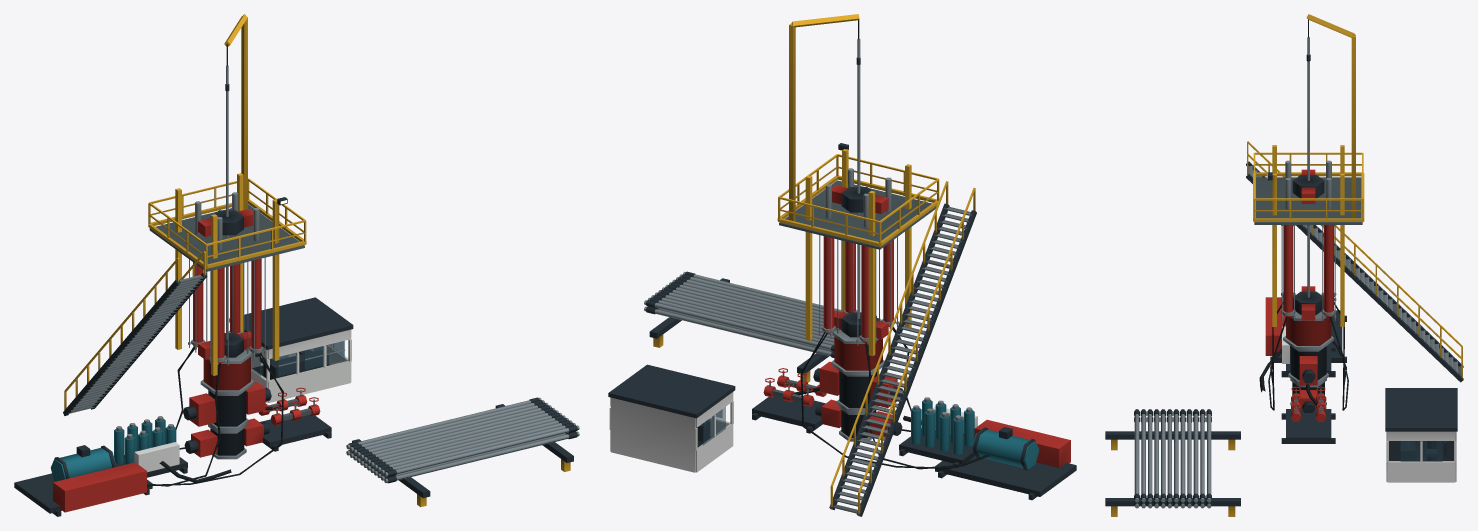
File: snubbing_unit_lodl.glb
3 renders of one model, left to right at view 1: azimuth 30°, elevation 25°; view 2: azimuth 150°, elevation 25°; view 3: azimuth 270°, elevation 25°, orthographic. The views are drawn at different scales.
Visible parts, largest first — view 1: pipe_rack_surface_steel, control_cabin_surface_dark, control_cabin_surface_white, snubbing_frame_surface_yellow, handrails_surface_yellow, hydraulic_jacks_surface_red, drill_floor_surface_deck, hydraulic_power_pack_surface_red, stairs_surface_steel, pipe_rack_surface_dark, stairs_surface_dark, accumulator_surface_blue (+18 smaller); view 2: pipe_rack_surface_steel, control_cabin_surface_white, stairs_surface_steel, control_cabin_surface_dark, snubbing_frame_surface_yellow, stairs_surface_dark, handrails_surface_yellow, hydraulic_jacks_surface_red, hydraulic_power_pack_surface_dark, drill_floor_surface_deck, stairs_surface_yellow, accumulator_surface_blue (+19 smaller); view 3: pipe_rack_surface_steel, control_cabin_surface_dark, drill_floor_surface_deck, pipe_rack_surface_dark, control_cabin_surface_white, handrails_surface_yellow, hydraulic_jacks_surface_red, stairs_surface_dark, snubbing_frame_surface_yellow, choke_manifold_surface_dark, stairs_surface_steel, stairs_surface_yellow (+14 smaller).
Boxes of the visible parts, x1,y1,x2,y2 form: pipe_rack_surface_steel: (346,397,579,482); control_cabin_surface_dark: (229,297,353,379); control_cabin_surface_white: (251,329,351,402); snubbing_frame_surface_yellow: (175,173,279,375); handrails_surface_yellow: (148,178,306,268); hydraulic_jacks_surface_red: (193,258,261,362); drill_floor_surface_deck: (149,204,304,271); hydraulic_power_pack_surface_red: (53,462,146,512); stairs_surface_steel: (68,275,205,413); pipe_rack_surface_dark: (348,397,577,498); stairs_surface_dark: (63,273,207,415); accumulator_surface_blue: (114,418,176,464); pipe_rack_surface_steel: (644,271,881,356); control_cabin_surface_white: (609,392,733,472); stairs_surface_steel: (832,207,971,513); control_cabin_surface_dark: (608,364,735,447); snubbing_frame_surface_yellow: (805,149,911,356); stairs_surface_dark: (829,203,976,516); handrails_surface_yellow: (777,154,939,246); hydraulic_jacks_surface_red: (823,236,893,342); hydraulic_power_pack_surface_dark: (935,427,1076,500); drill_floor_surface_deck: (779,180,936,249); stairs_surface_yellow: (830,181,975,515); accumulator_surface_blue: (911,400,974,454); pipe_rack_surface_steel: (1134,409,1211,508); control_cabin_surface_dark: (1385,388,1457,460); drill_floor_surface_deck: (1254,177,1362,224); pipe_rack_surface_dark: (1105,409,1240,506); control_cabin_surface_white: (1386,431,1456,482); handrails_surface_yellow: (1253,152,1364,222); hydraulic_jacks_surface_red: (1283,225,1333,316); stairs_surface_dark: (1246,161,1463,382); snubbing_frame_surface_yellow: (1272,145,1344,326); choke_manifold_surface_dark: (1281,409,1335,443); stairs_surface_steel: (1248,165,1461,375); stairs_surface_yellow: (1247,141,1462,378).
Bounding box in the file's own units: 22.2 × 19.41 × 15.87.
